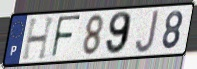8: (81, 13, 105, 58), (161, 10, 184, 51)
9: (105, 10, 135, 57)
F: (50, 14, 83, 60)
H: (21, 15, 57, 62)
J: (134, 9, 160, 55)
